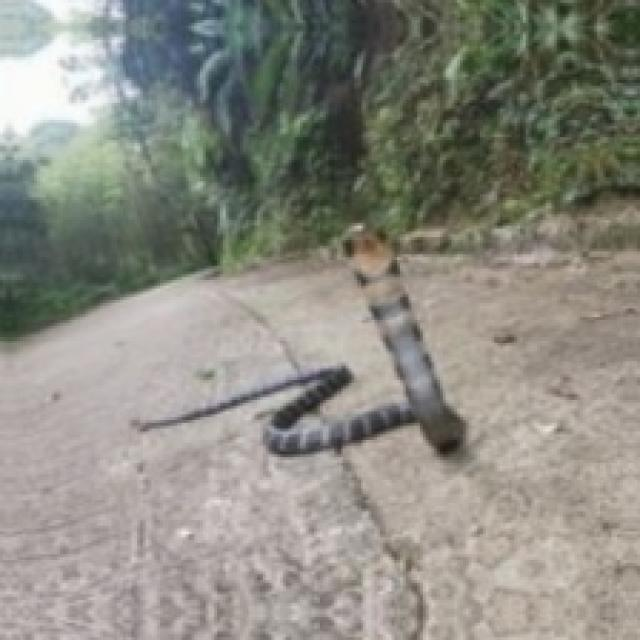king cobra: (266, 229, 463, 451), (351, 229, 463, 451)
